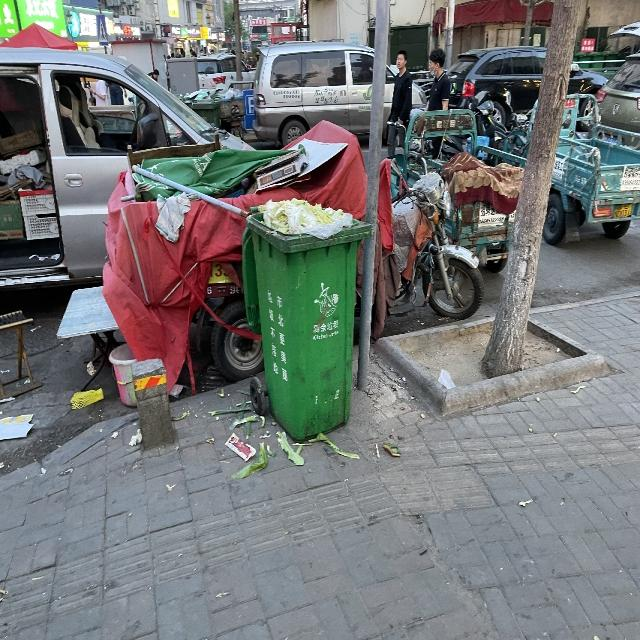garbage: (202, 385, 400, 477)
overflow: (242, 198, 372, 441)
